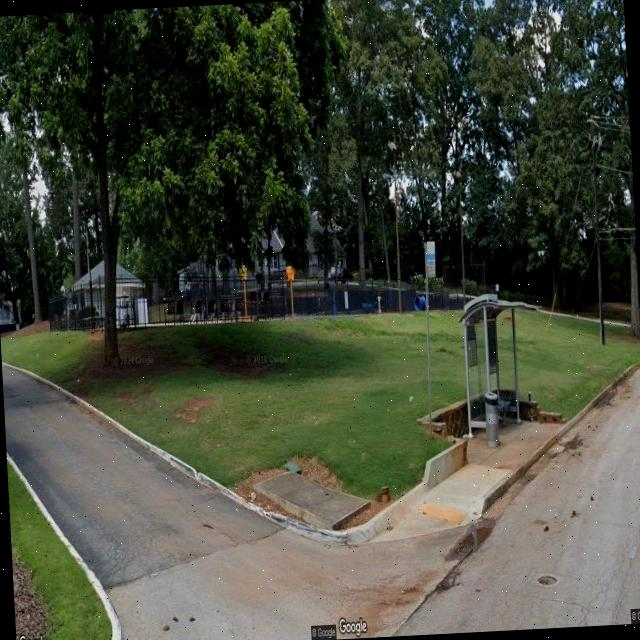seating: (496, 395, 512, 430)
shelter: (457, 293, 550, 444)
trash_can: (484, 388, 499, 448)
